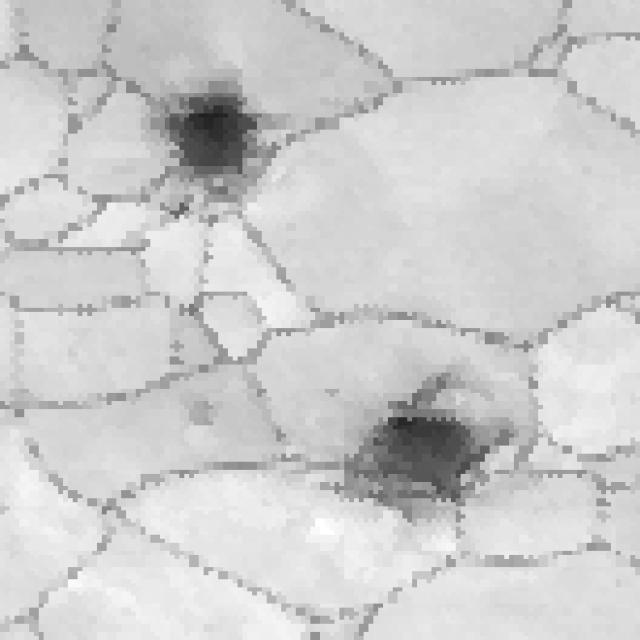good_void: (314, 362, 532, 522), (142, 55, 301, 207), (185, 391, 218, 429), (167, 191, 189, 222), (318, 382, 344, 402)
